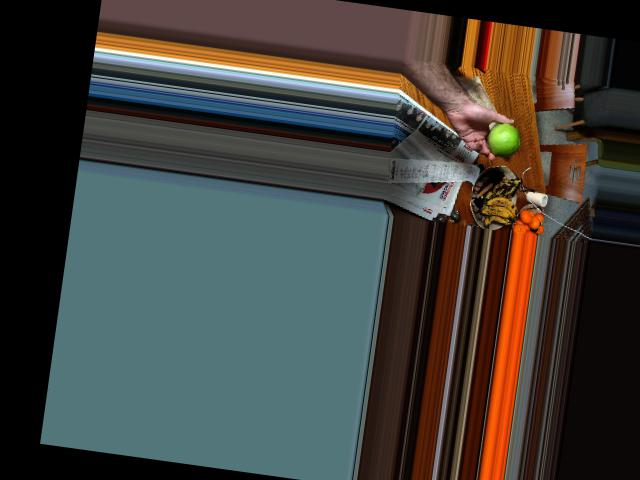apple: (481, 120, 524, 161)
